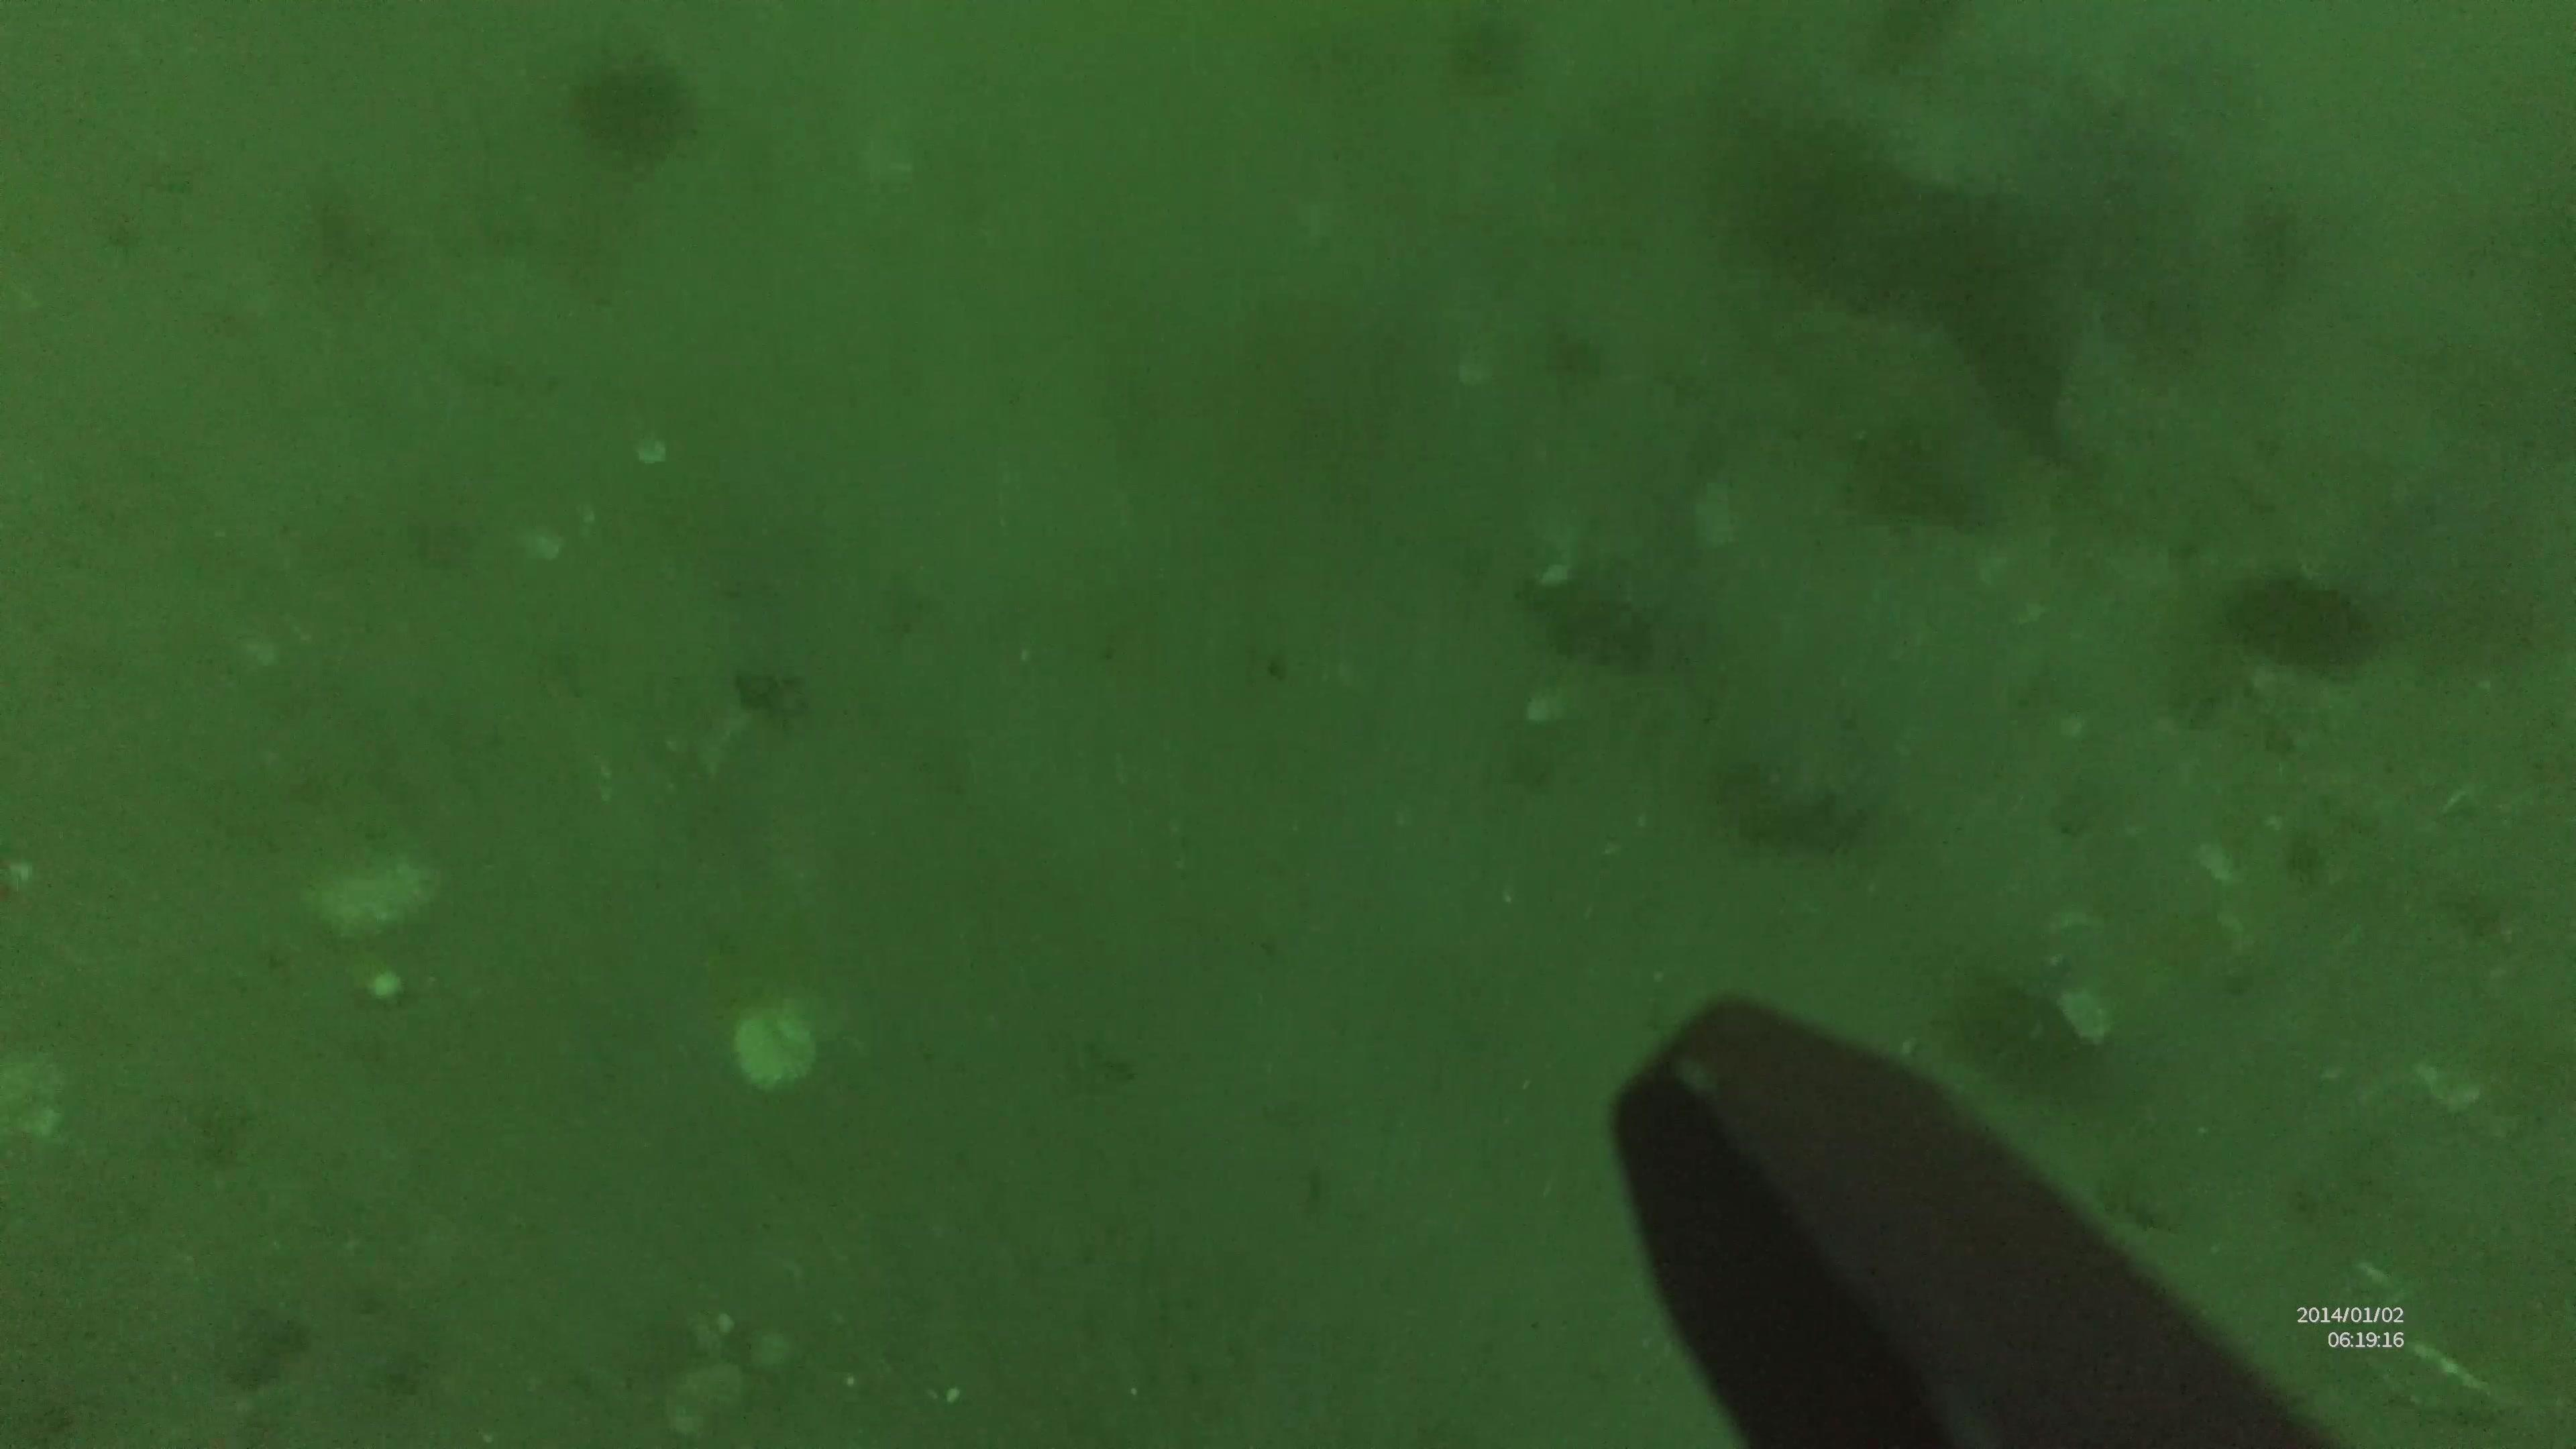echinus: (2215, 554, 2373, 674), (566, 46, 709, 165)
